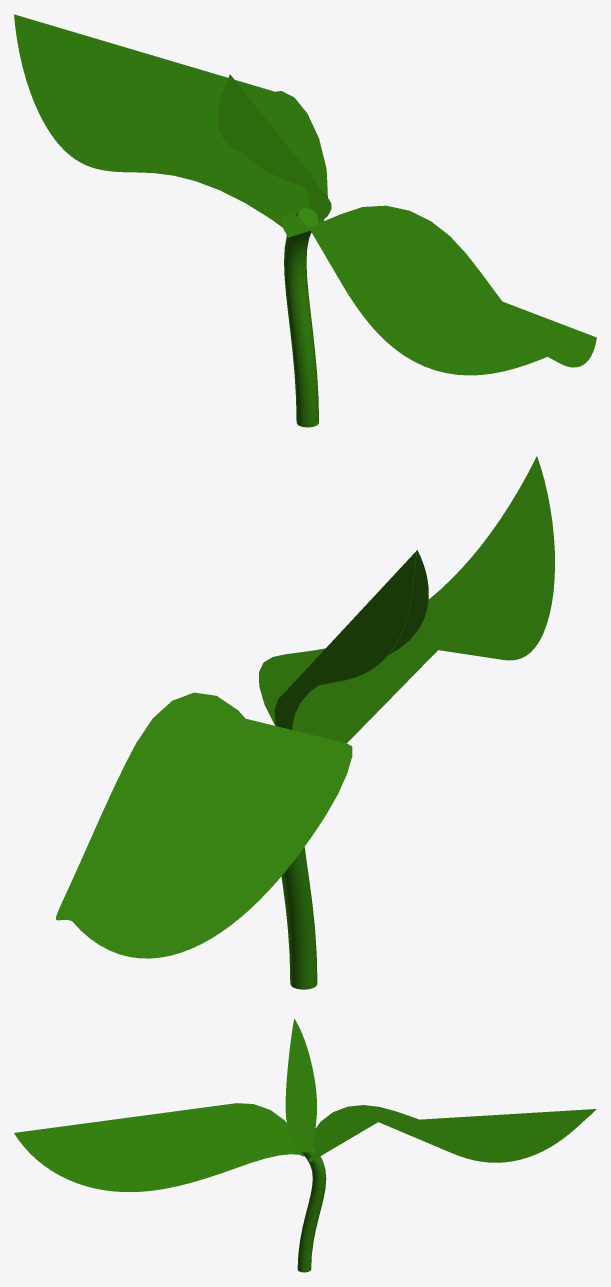
File: kabocya1.fbx
3 renders of one model, top to bottom at view 1: azimuth 30°, elevation 25°; view 2: azimuth 150°, elevation 25°; view 3: azimuth 270°, elevation 25°, orthographic. The views are drawn at different scales.
Parts seen in each view (by area): view 1: nasu1; view 2: nasu1; view 3: nasu1.
Boxes of the visible parts, x1,y1,x2,y2 form: nasu1: (14, 14, 596, 427); nasu1: (56, 456, 554, 989); nasu1: (14, 1019, 596, 1272).
Size of the model in its own units: 92.75 by 184 by 429.
